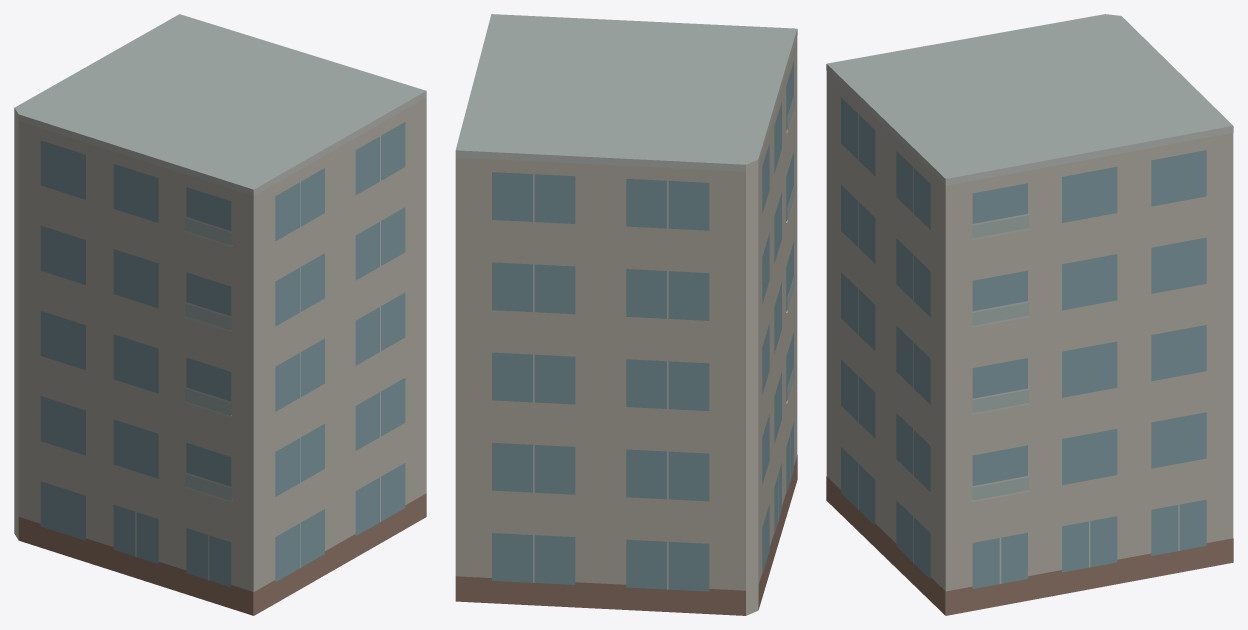
The model's file is survey-upis-32966126.glb.
3 renders of one model, left to right at view 1: azimuth 30°, elevation 25°; view 2: azimuth 150°, elevation 25°; view 3: azimuth 270°, elevation 25°, orthographic. The views are drawn at different scales.
Parts seen in each view (by area): view 1: survey-upis-32966126.tmp; view 2: survey-upis-32966126.tmp; view 3: survey-upis-32966126.tmp.
Boxes of the visible parts, bbox=[...] form: survey-upis-32966126.tmp: bbox=[14, 14, 426, 615]; survey-upis-32966126.tmp: bbox=[455, 14, 797, 615]; survey-upis-32966126.tmp: bbox=[826, 14, 1233, 615].
Size of the model in its own units: 12.66 by 15.61 by 13.19.
